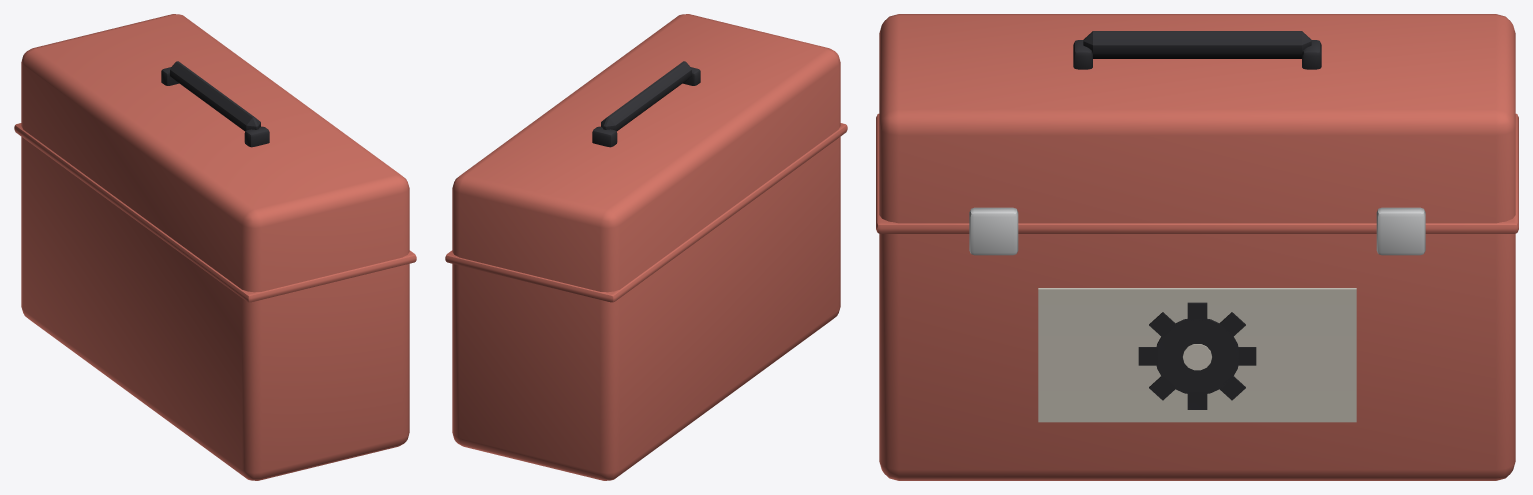
File: nd_engine_kit.glb
3 renders of one model, left to right at view 1: azimuth 30°, elevation 25°; view 2: azimuth 150°, elevation 25°; view 3: azimuth 270°, elevation 25°, orthographic. The views are drawn at different scales.
Visible parts, largest first — view 1: PART; view 2: PART; view 3: PART.
Part boxes in pixels (bbox=[...]): PART: bbox=[14, 14, 416, 480]; PART: bbox=[445, 14, 847, 480]; PART: bbox=[876, 14, 1518, 480].
Bounding box in the file's own units: 0.171 × 0.271 × 0.394.
